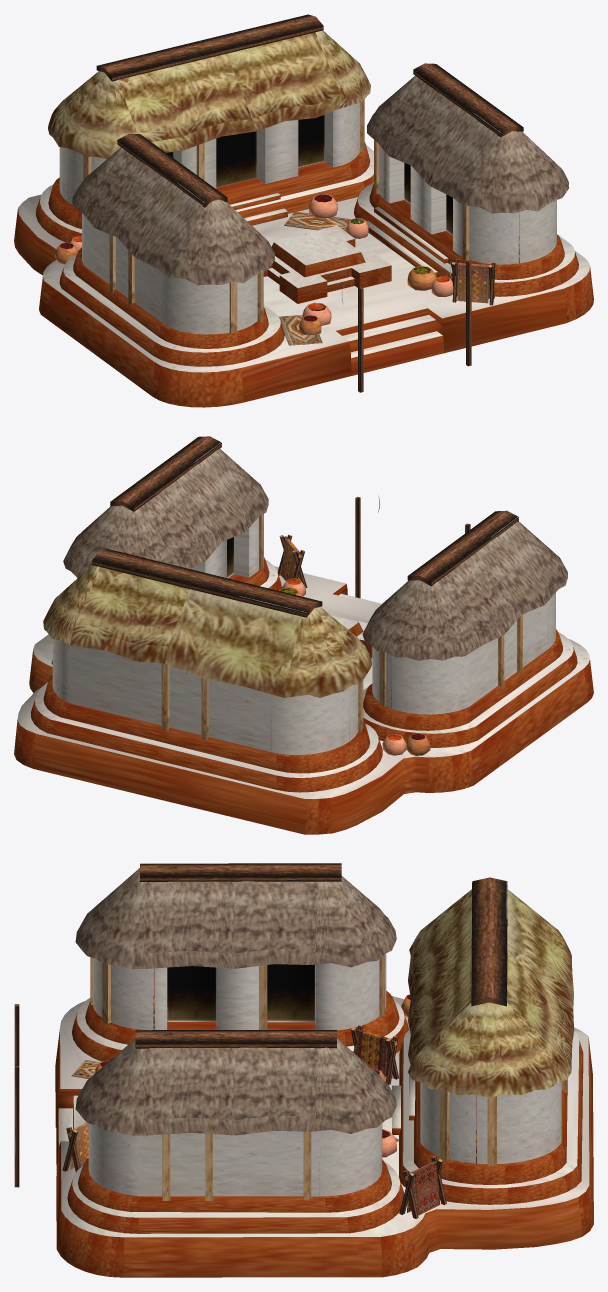
File: cc_menor_2.dae
3 renders of one model, top to bottom at view 1: azimuth 30°, elevation 25°; view 2: azimuth 150°, elevation 25°; view 3: azimuth 270°, elevation 25°, orthographic. The views are drawn at different scales.
Parts seen in each view (by area): view 1: cc_nm_2; view 2: cc_nm_2; view 3: cc_nm_2.
Part boxes in pixels (x1,y1,x2,y2): cc_nm_2: (14, 14, 593, 407); cc_nm_2: (14, 436, 593, 834); cc_nm_2: (14, 863, 593, 1277).
Bounding box in the file's own units: 25.05 × 24.88 × 10.31.
1 material, 1 textured.
